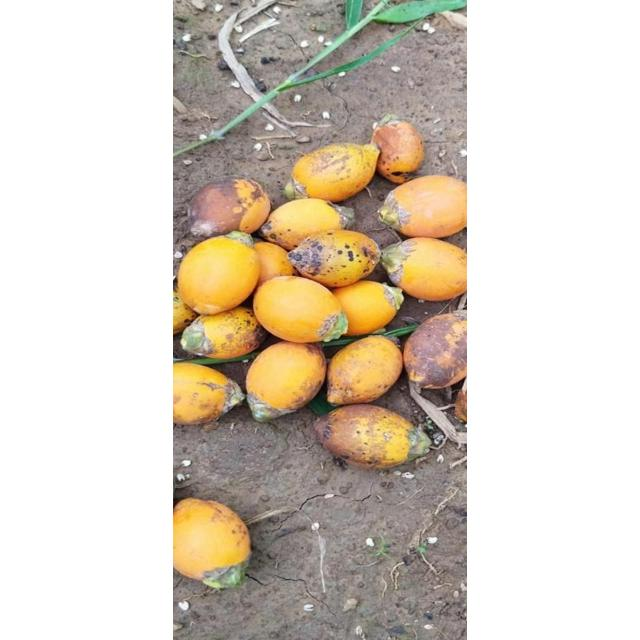good: (314, 404, 432, 468), (176, 233, 262, 314), (173, 498, 251, 586), (245, 342, 328, 420), (252, 276, 346, 344), (378, 177, 467, 239), (382, 237, 466, 301), (286, 230, 382, 286), (288, 144, 380, 202), (326, 336, 404, 404), (186, 178, 270, 240), (403, 313, 467, 391), (258, 199, 352, 251), (180, 306, 266, 359), (173, 361, 244, 424), (331, 280, 402, 336), (370, 116, 424, 182), (253, 242, 297, 284), (174, 288, 198, 338), (284, 180, 304, 202)
